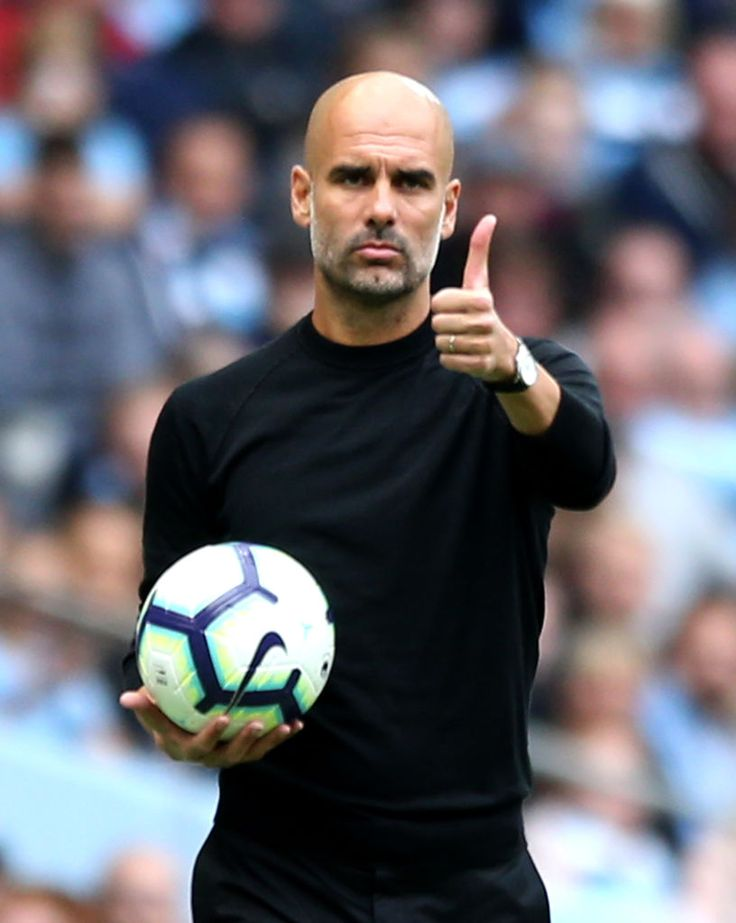thumbsUp: (424, 208, 522, 408)
